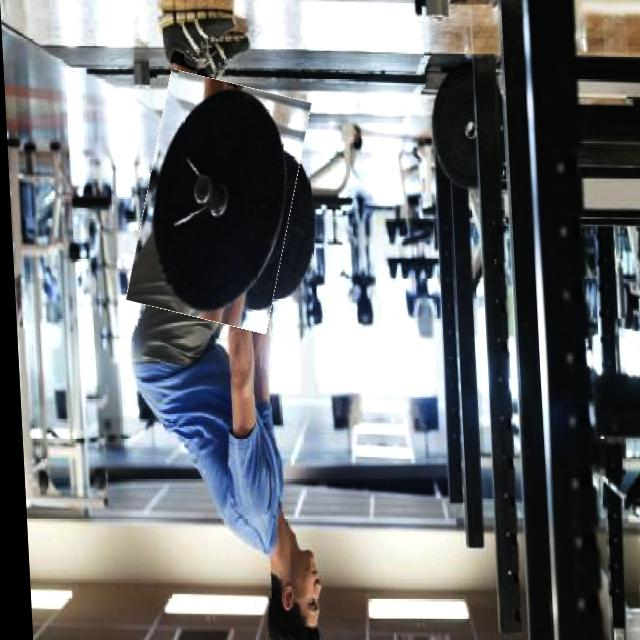barbell: (129, 77, 307, 328)
